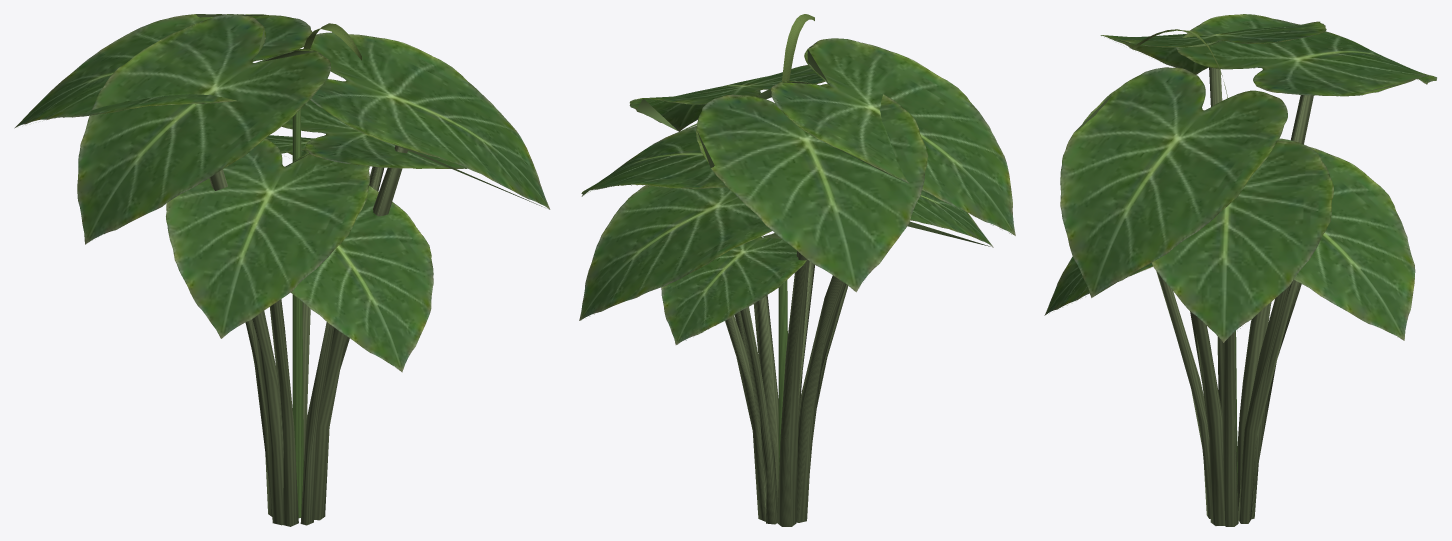
Rendered from taro-4-lite.glb.
The picture shows the model from 3 angles, left to right: view 1: azimuth 30°, elevation 25°; view 2: azimuth 150°, elevation 25°; view 3: azimuth 270°, elevation 25°; orthographic projection. The views are drawn at different scales.
Visible parts, largest first — view 1: leaf, petiole, leaf-edge; view 2: leaf, petiole, leaf-edge, leaf-back, new-leaf; view 3: leaf, petiole, leaf-back.
Boxes of the visible parts, x1,y1,x2,y2 form: leaf: (15, 14, 550, 371); petiole: (209, 109, 407, 526); leaf-edge: (54, 14, 549, 235); leaf: (579, 38, 1015, 344); petiole: (725, 251, 848, 526); leaf-edge: (581, 41, 1011, 344); leaf-back: (581, 87, 750, 196); new-leaf: (782, 14, 814, 81); leaf: (1044, 14, 1431, 342); petiole: (1156, 67, 1313, 526); leaf-back: (1100, 27, 1436, 84).
Size of the model in its own units: 1.25 by 1.36 by 0.9807.
Materials: 5 (4 with a texture image).
